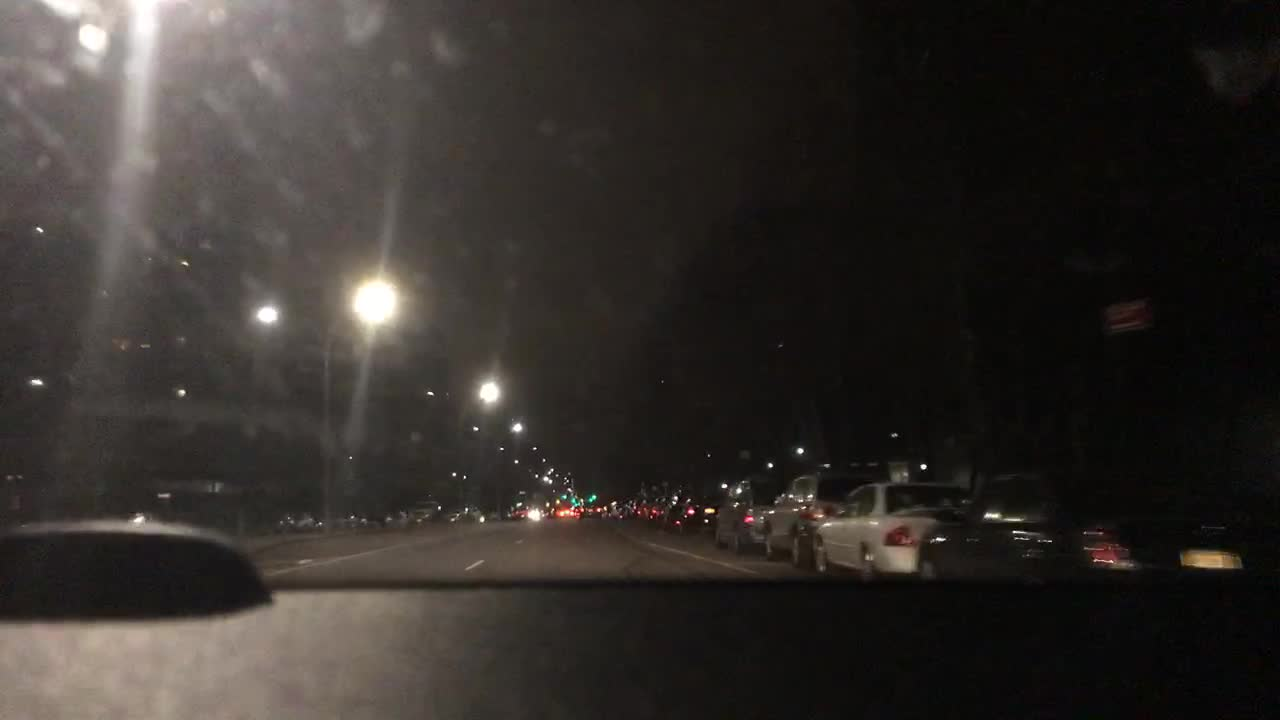car: (914, 472, 1252, 579), (811, 481, 975, 577), (761, 467, 867, 570), (707, 472, 786, 552), (658, 496, 714, 531), (271, 504, 317, 530), (442, 498, 482, 525), (408, 496, 445, 525), (643, 496, 668, 523), (504, 498, 530, 523), (373, 510, 408, 526), (629, 494, 654, 515), (617, 496, 638, 516), (320, 506, 340, 527), (575, 501, 599, 518), (344, 510, 369, 526), (541, 504, 563, 518), (600, 499, 619, 513)
traffic sign: (1102, 300, 1151, 336)
